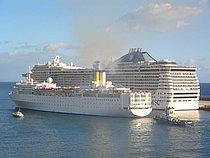Ship: (10, 76, 157, 120)
